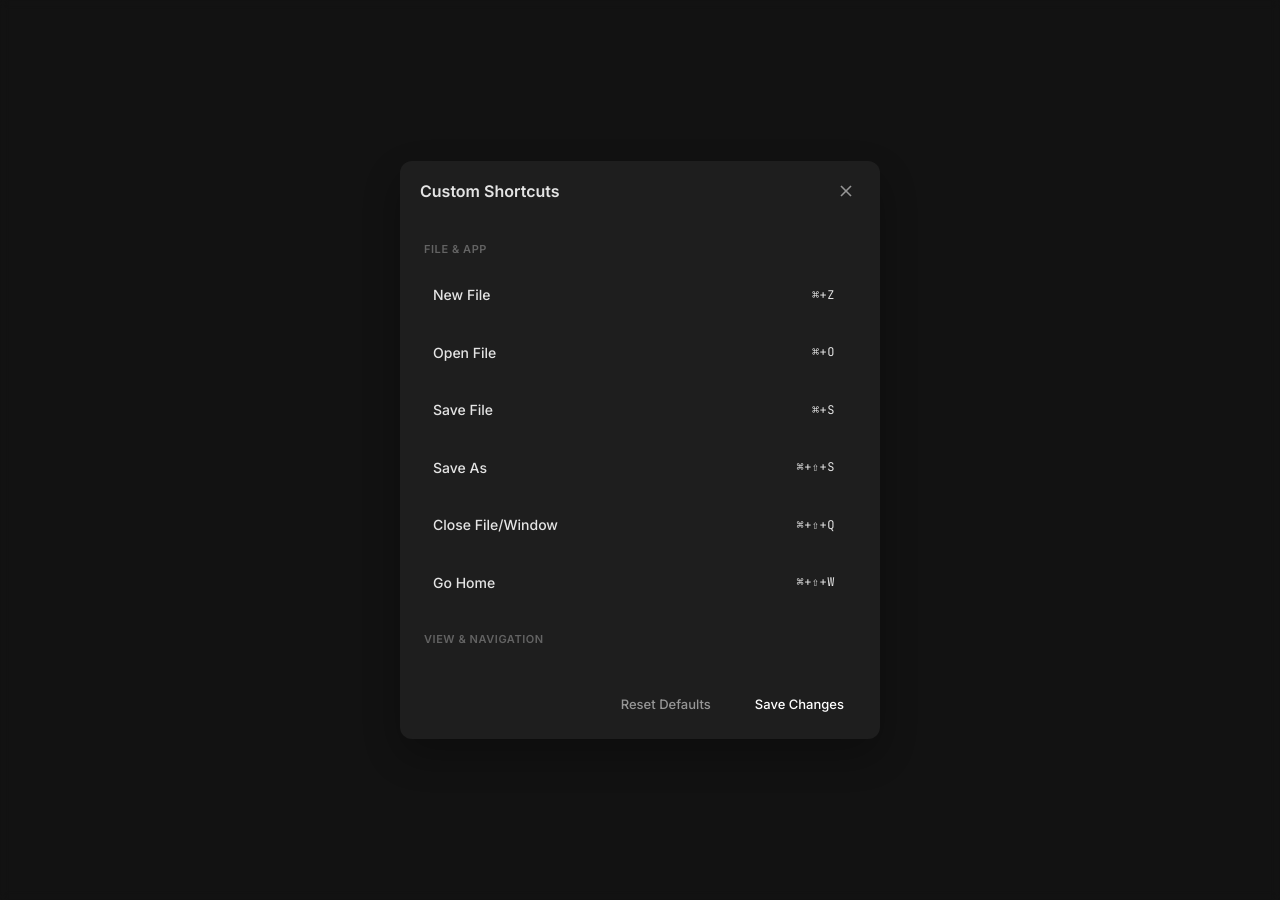
ShortcutConfigModal.svelte › resets to defaults when Reset Defaults is clicked
The width and height of the screenshot is (1280, 900).
Step 1. Click the button "Reset Defaults" → point(666, 705), box [605,687,727,723]
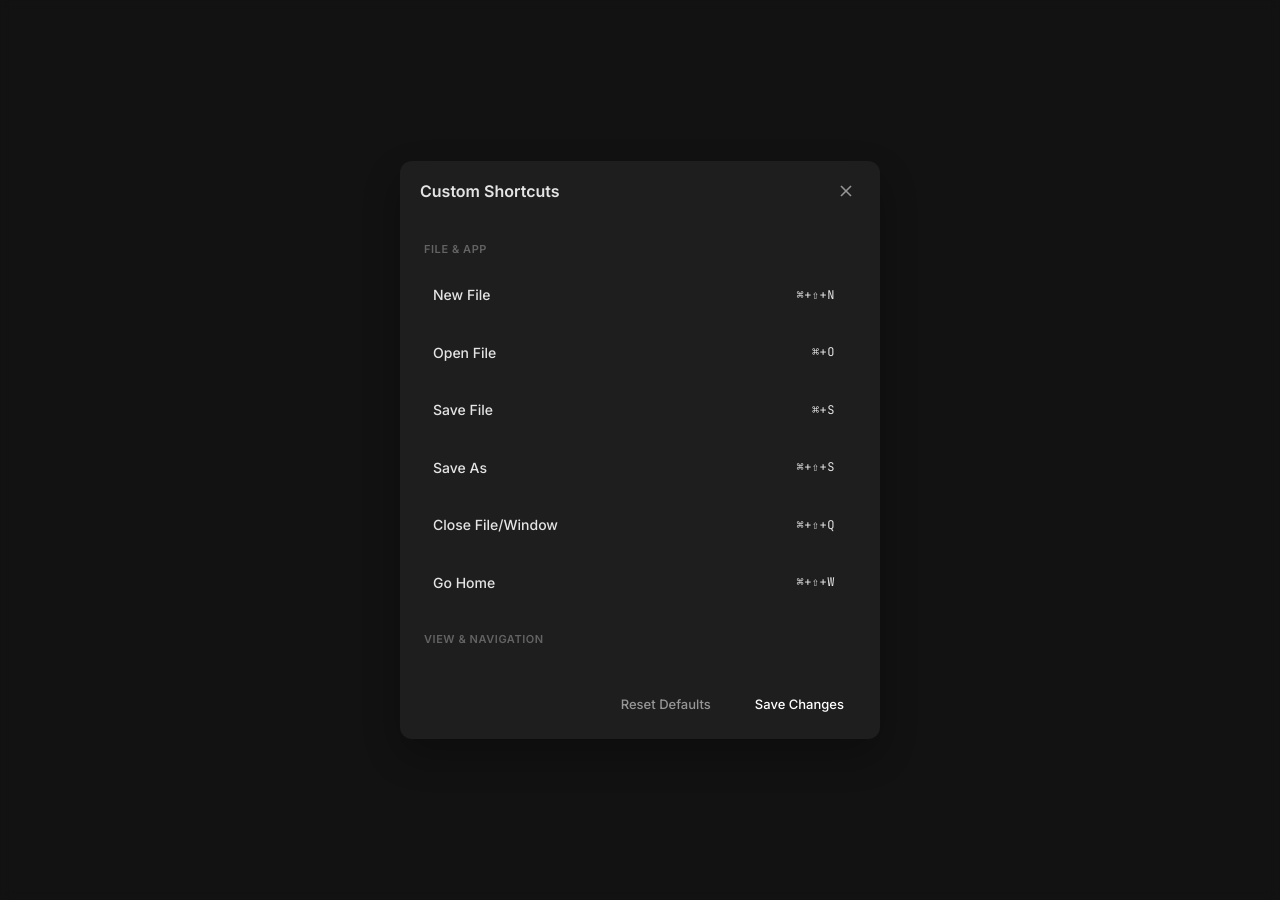
Check: the button with class "shortcut-btn" shows "N", box [707,279,847,310]
